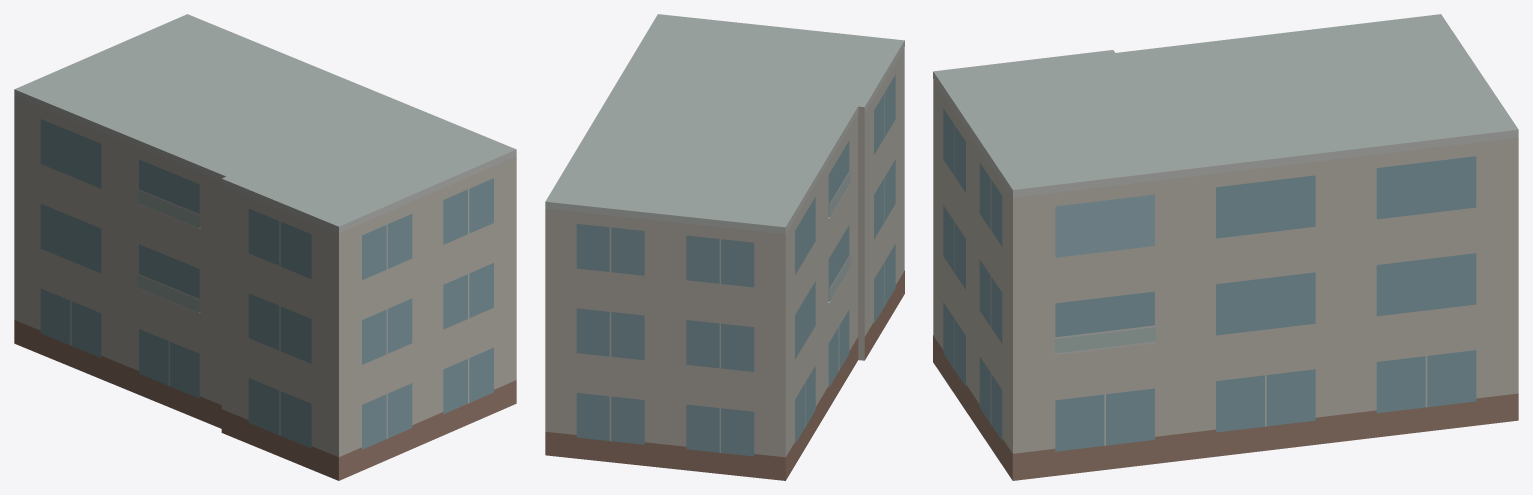
The model's file is survey-upis-32812285.glb.
The picture shows the model from 3 angles, left to right: view 1: azimuth 30°, elevation 25°; view 2: azimuth 150°, elevation 25°; view 3: azimuth 270°, elevation 25°; orthographic projection. The views are drawn at different scales.
Visible parts, largest first — view 1: survey-upis-32812285.tmp; view 2: survey-upis-32812285.tmp; view 3: survey-upis-32812285.tmp.
Boxes of the visible parts, x1=… form: survey-upis-32812285.tmp: x1=14, y1=14, x2=516, y2=480; survey-upis-32812285.tmp: x1=545, y1=14, x2=904, y2=480; survey-upis-32812285.tmp: x1=933, y1=14, x2=1518, y2=480.
Bounding box in the file's own units: 11.88 × 9.15 × 16.7.
